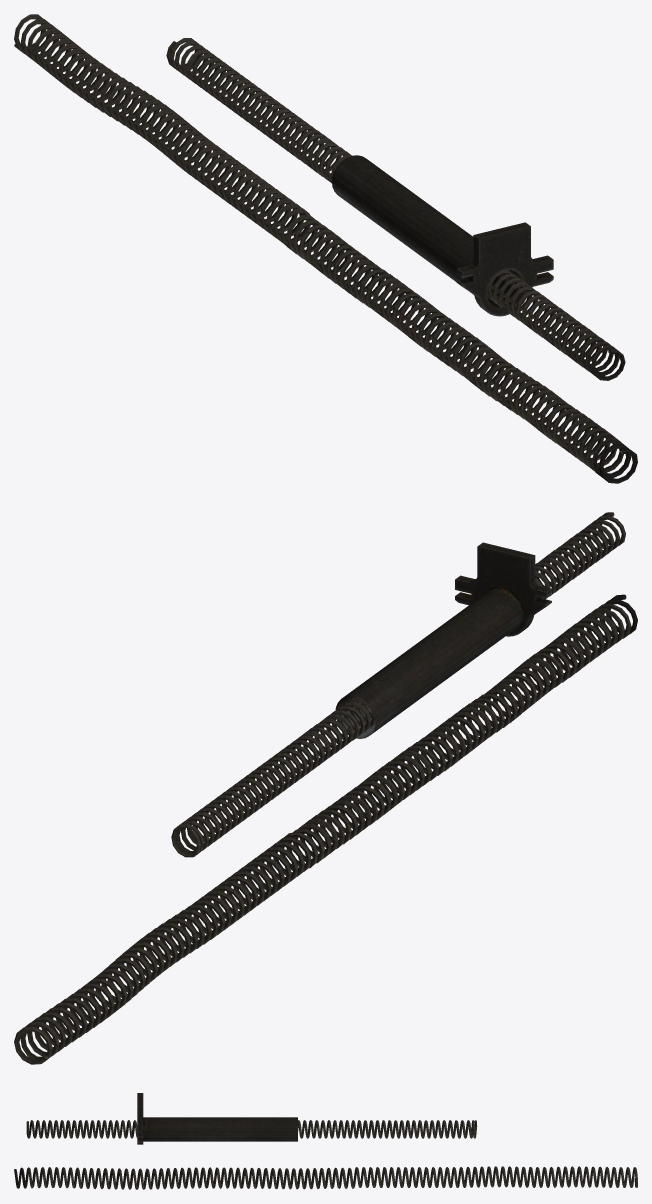
3 renders of one model, top to bottom at view 1: azimuth 30°, elevation 25°; view 2: azimuth 150°, elevation 25°; view 3: azimuth 270°, elevation 25°, orthographic. The views are drawn at different scales.
Parts seen in each view (by area): view 1: TW_62e14904c2699c0ec93adc47_PZ_Import; view 2: TW_62e14904c2699c0ec93adc47_PZ_Import; view 3: TW_62e14904c2699c0ec93adc47_PZ_Import.
Boxes of the visible parts, x1,y1,x2,y2 form: TW_62e14904c2699c0ec93adc47_PZ_Import: (14,14,637,483); TW_62e14904c2699c0ec93adc47_PZ_Import: (14,512,637,1064); TW_62e14904c2699c0ec93adc47_PZ_Import: (14,1093,637,1189).
Size of the model in its own units: 0.0113 by 0.128 by 0.0201.
Materials: 1 (1 with a texture image).
